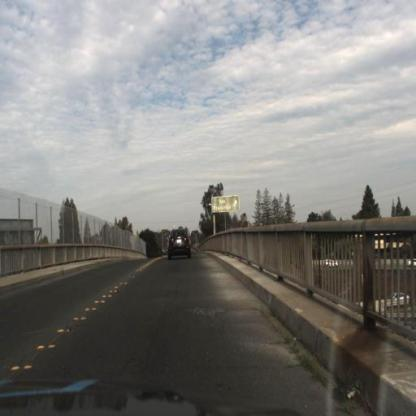car: (163, 222, 194, 262), (321, 255, 343, 278), (389, 289, 410, 310)
